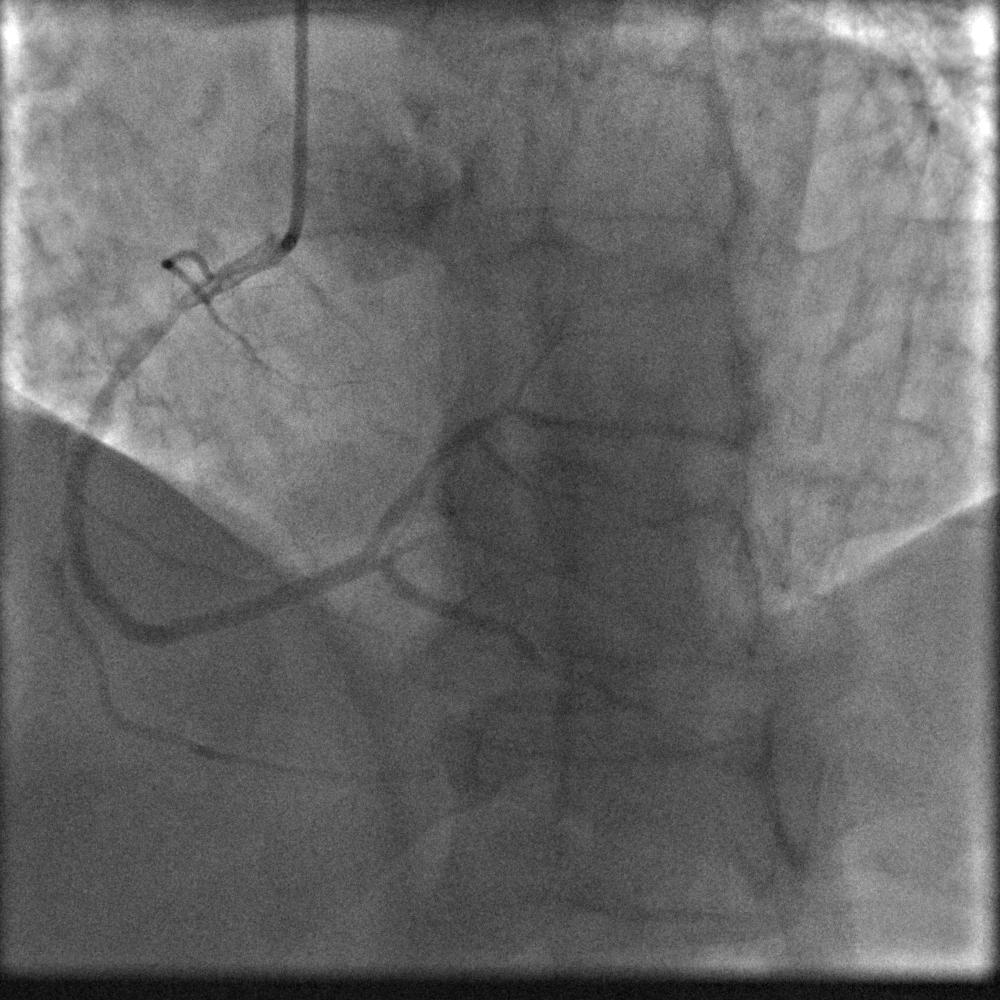Stenosis: (147, 284, 198, 337)
